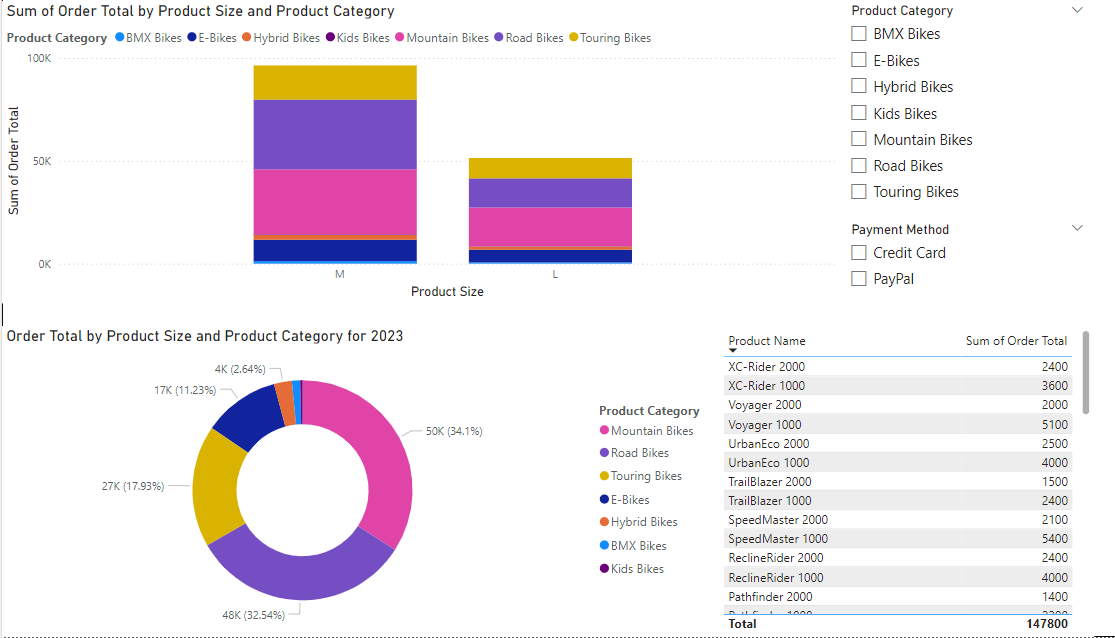

The page's visual inventory and layout, read from the dashboard file:
{"tool":"powerbi","page":{"name":"Page 1","canvas":[1280,720],"ordinal":0},"visuals":[{"type":"slicer","fields":{"Values":["i4LNmR9pROuHP1JLs5i4ng_3652883b57554acc8bc5cac94f5dc5e1_AdventureWorks-sales-dat.Product Category"]},"box":[919.4,19.2,279.9,240.1],"z":0},{"type":"slicer","fields":{"Values":["i4LNmR9pROuHP1JLs5i4ng_3652883b57554acc8bc5cac94f5dc5e1_AdventureWorks-sales-dat.Payment Method"]},"box":[919.4,259.3,279.9,102.9],"z":1},{"type":"columnChart","fields":{"Y":["Sum(i4LNmR9pROuHP1JLs5i4ng_3652883b57554acc8bc5cac94f5dc5e1_AdventureWorks-sales-dat.Order Total)"],"Category":["i4LNmR9pROuHP1JLs5i4ng_3652883b57554acc8bc5cac94f5dc5e1_AdventureWorks-sales-dat.Product Size"],"Series":["i4LNmR9pROuHP1JLs5i4ng_3652883b57554acc8bc5cac94f5dc5e1_AdventureWorks-sales-dat.Product Category"]},"box":[0,22,919.4,332.1],"z":2},{"type":"donutChart","title":"Order Total by Product Size and Product Category for 2023","fields":{"Y":["Sum(i4LNmR9pROuHP1JLs5i4ng_3652883b57554acc8bc5cac94f5dc5e1_AdventureWorks-sales-dat.Order Total)"],"Category":["i4LNmR9pROuHP1JLs5i4ng_3652883b57554acc8bc5cac94f5dc5e1_AdventureWorks-sales-dat.Product Category"]},"box":[0,378.7,786.3,341.7],"z":3},{"type":"tableEx","fields":{"Values":["i4LNmR9pROuHP1JLs5i4ng_3652883b57554acc8bc5cac94f5dc5e1_AdventureWorks-sales-dat.Product Name","Sum(i4LNmR9pROuHP1JLs5i4ng_3652883b57554acc8bc5cac94f5dc5e1_AdventureWorks-sales-dat.Order Total)"]},"box":[786.3,378.7,413,341.7],"z":4}]}

Visuals, with their boxes in screenshot pixels (x1, y1, x2, y2), scaled from the page's 1280x720 canvas onto the 1115x638 screenshot:
slicer - i4LNmR9pROuHP1JLs5i4ng_3652883b57554acc8bc5cac94f5dc5e1_AdventureWorks-sales-dat.Product Category: [801,17,1045,230]
slicer - i4LNmR9pROuHP1JLs5i4ng_3652883b57554acc8bc5cac94f5dc5e1_AdventureWorks-sales-dat.Payment Method: [801,230,1045,321]
columnChart - Sum(i4LNmR9pROuHP1JLs5i4ng_3652883b57554acc8bc5cac94f5dc5e1_AdventureWorks-sales-dat.Order Total) x i4LNmR9pROuHP1JLs5i4ng_3652883b57554acc8bc5cac94f5dc5e1_AdventureWorks-sales-dat.Product Size: [0,19,801,314]
"Order Total by Product Size and Product Category for 2023" donutChart: [0,336,685,637]
tableEx - i4LNmR9pROuHP1JLs5i4ng_3652883b57554acc8bc5cac94f5dc5e1_AdventureWorks-sales-dat.Product Name x Sum(i4LNmR9pROuHP1JLs5i4ng_3652883b57554acc8bc5cac94f5dc5e1_AdventureWorks-sales-dat.Order Total): [685,336,1045,637]
